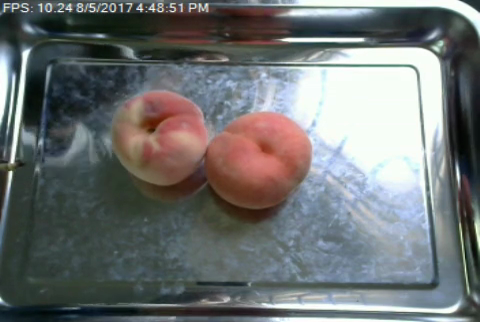Peach: (203, 111, 312, 208), (111, 88, 209, 187)
